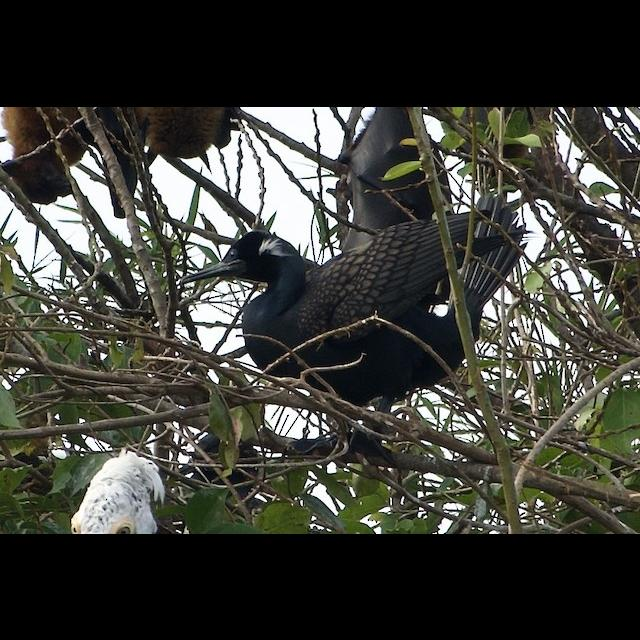cormorant: (165, 203, 501, 377)
